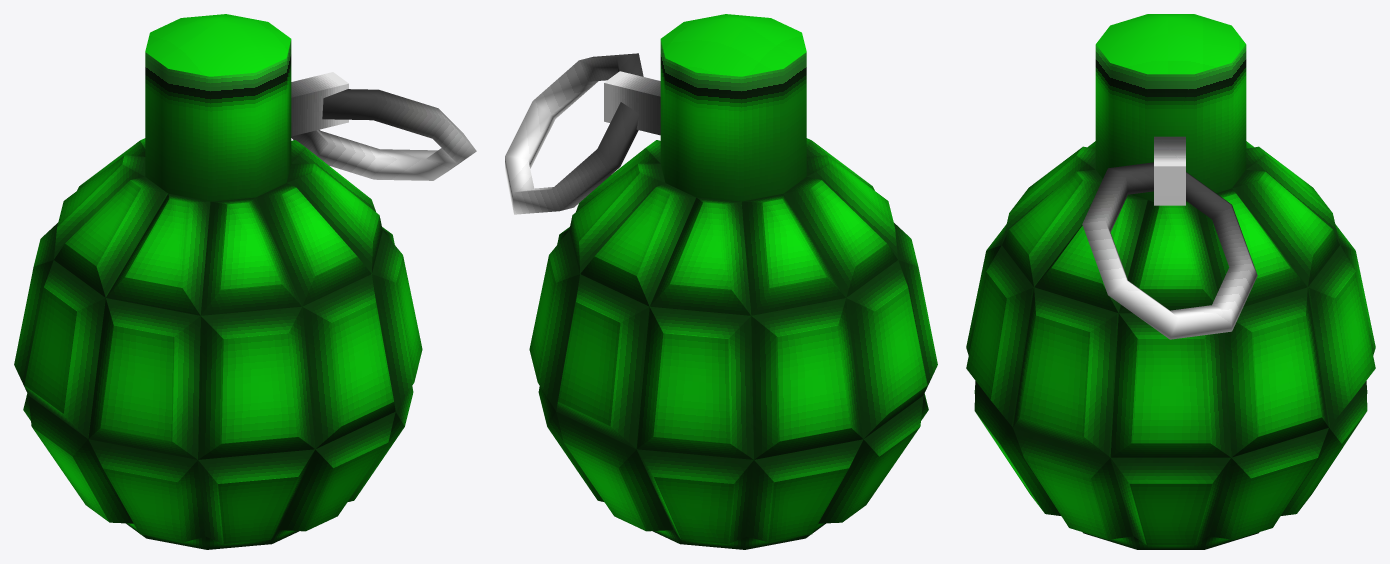
File: Object_Grenade.FBX
3 renders of one model, left to right at view 1: azimuth 30°, elevation 25°; view 2: azimuth 150°, elevation 25°; view 3: azimuth 270°, elevation 25°, orthographic.
Visible parts, largest first — view 1: grenade; view 2: grenade; view 3: grenade.
Boxes of the visible parts, box(x1,y1,x2,y2) form: grenade: box(14, 14, 476, 549); grenade: box(505, 14, 937, 549); grenade: box(966, 14, 1375, 549).
Size of the model in its own units: 20.92 by 25.88 by 18.28.
